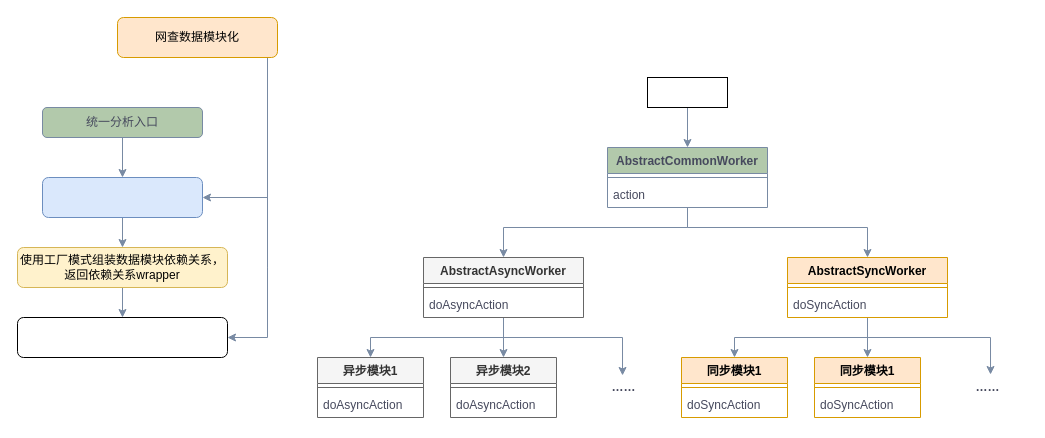
Image size: 1045x438. Some labels were removed from this diagram. The shapes that lost their labels are listed below. From the top down, each one's centre as x and y in pixels, then its label:
At point (687, 92): "IWorker".
At point (122, 197): "可灵活配置需要执行的模块".
At point (122, 337): "Async.beginWork()并发执行".
